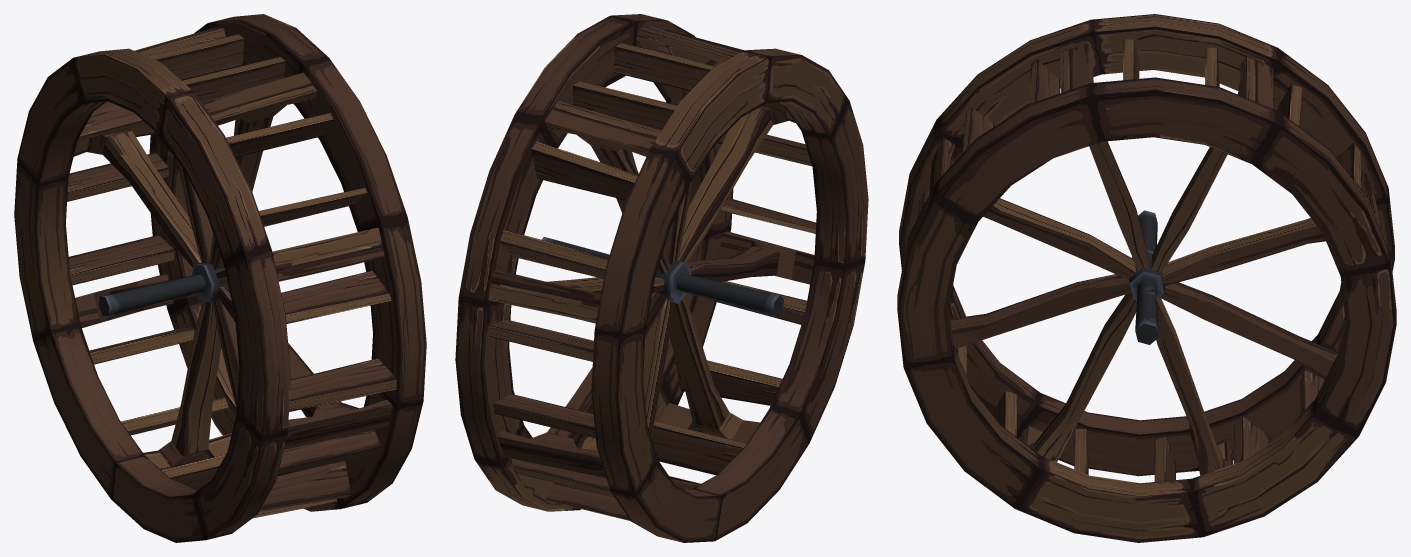
The model's file is SM_PROP_waterwheel_dungeon_01.fbx.
3 views of the same model, side by side, from view 1: azimuth 30°, elevation 25°; view 2: azimuth 150°, elevation 25°; view 3: azimuth 270°, elevation 25° (orthographic).
Parts seen in each view (by area): view 1: SM_PROP_waterwheel_dungeon_01, SM_PROP_waterwheel_pole_dungeon_01; view 2: SM_PROP_waterwheel_dungeon_01, SM_PROP_waterwheel_pole_dungeon_01; view 3: SM_PROP_waterwheel_dungeon_01, SM_PROP_waterwheel_pole_dungeon_01.
Part boxes in pixels (<box>): SM_PROP_waterwheel_dungeon_01: <box>14,14,426,542</box>; SM_PROP_waterwheel_pole_dungeon_01: <box>98,274,205,316</box>; SM_PROP_waterwheel_dungeon_01: <box>455,14,868,542</box>; SM_PROP_waterwheel_pole_dungeon_01: <box>541,237,783,317</box>; SM_PROP_waterwheel_dungeon_01: <box>897,14,1396,542</box>; SM_PROP_waterwheel_pole_dungeon_01: <box>1135,210,1158,344</box>.
Bounding box in the file's own units: 336 × 622 × 622.
